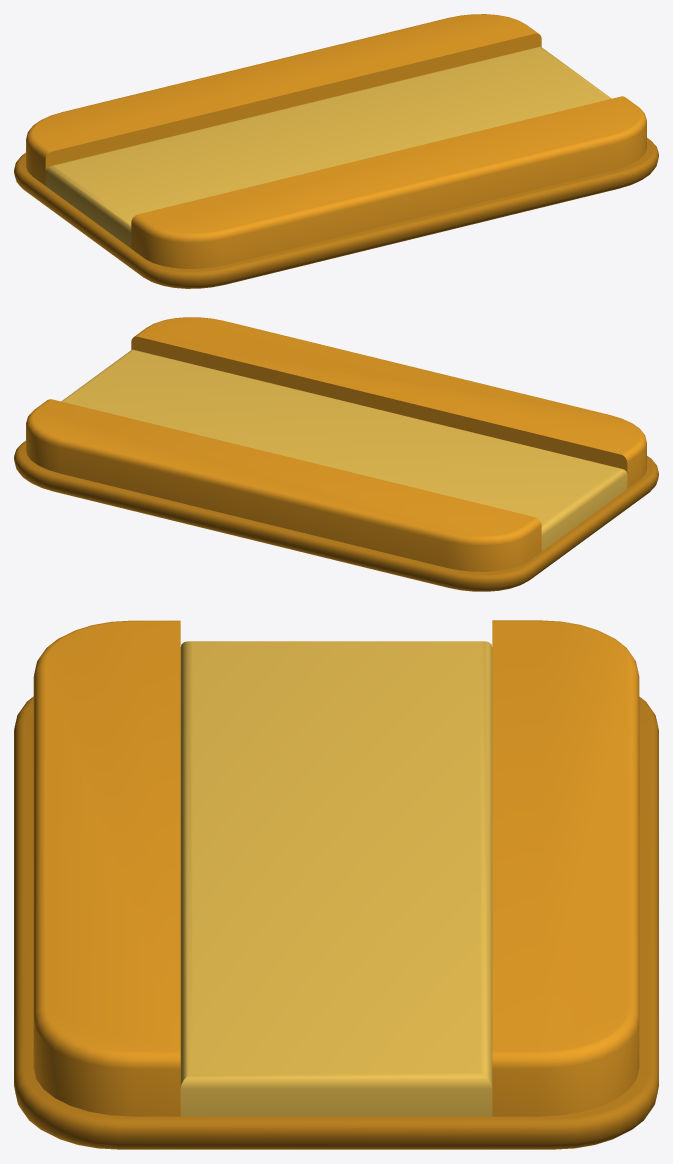
File: Button_Horizontal_v2.fbx
3 views of the same model, one above another, from view 1: azimuth 30°, elevation 25°; view 2: azimuth 150°, elevation 25°; view 3: azimuth 270°, elevation 25° (orthographic). The views are drawn at different scales.
Parts seen in each view (by area): view 1: Center2, Down2, Up2, Base2; view 2: Center2, Up2, Down2, Base2; view 3: Center2, Up2, Down2, Base2.
Boxes of the visible parts, <box> form: Center2: <box>45,46,611,248</box>; Down2: <box>131,96,646,268</box>; Up2: <box>26,14,541,185</box>; Base2: <box>14,138,658,288</box>; Center2: <box>61,349,627,551</box>; Up2: <box>26,399,541,571</box>; Down2: <box>131,317,646,488</box>; Base2: <box>14,441,658,591</box>; Center2: <box>180,641,492,1116</box>; Up2: <box>492,620,639,1116</box>; Down2: <box>33,620,180,1116</box>; Base2: <box>14,696,658,1149</box>.
Bounding box in the file's own units: 482 × 46.03 × 289.
